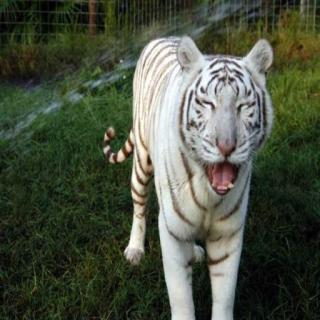Tiger: (89, 34, 286, 320)
